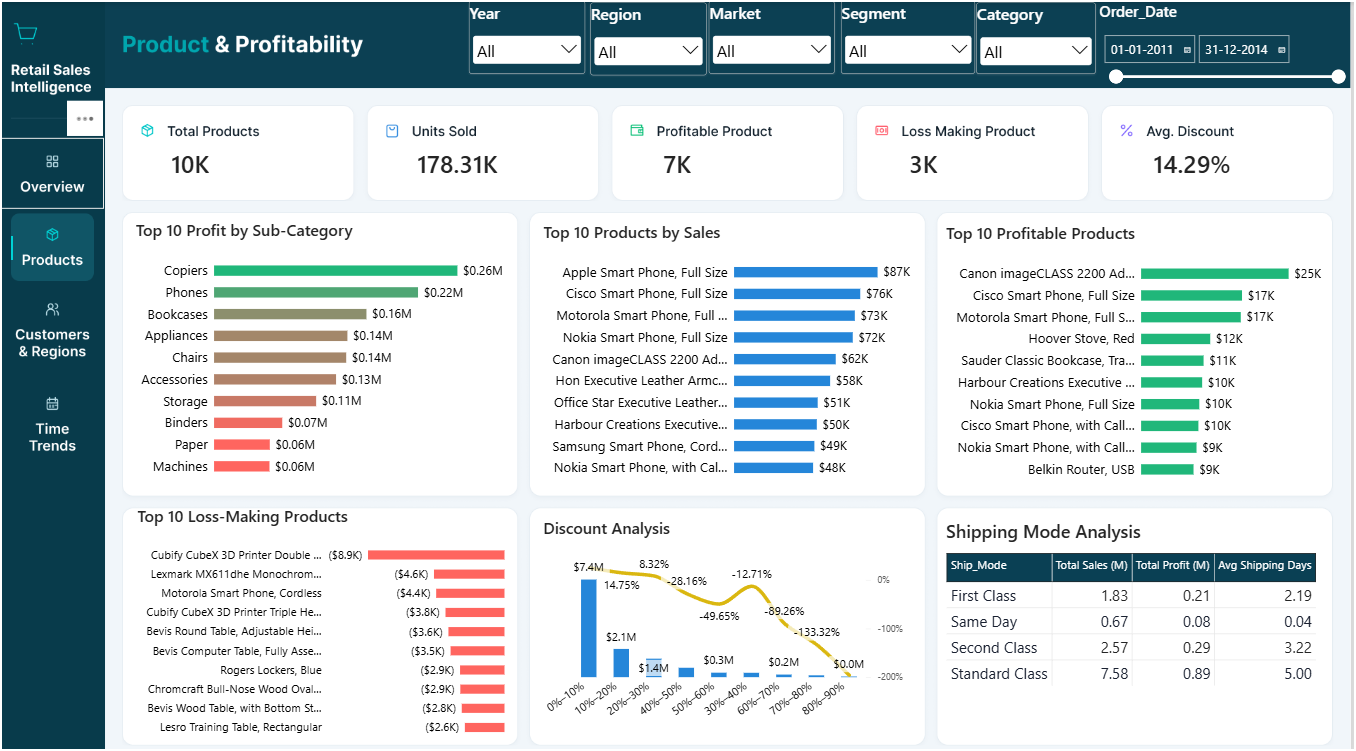

The page's visual inventory and layout, read from the dashboard file:
{"tool":"powerbi","page":{"name":"Page 2","canvas":[1920,1080],"ordinal":1},"visuals":[{"type":"slicer","title":"Region","fields":{"Values":["clean_global_superstore.Region"]},"box":[838.8,2.7,164.9,103.7],"z":0,"group":"g1"},{"type":"shape","box":[0,195.6,148.4,99],"z":0},{"type":"cardVisual","fields":{"Data":["clean_global_superstore.Total Products"]},"box":[226.2,195.6,181.4,70.7],"z":0,"group":"g2"},{"type":"slicer","title":"Year","fields":{"Values":["Calendar.Year"]},"box":[666.8,0.3,164.9,103.7],"z":1000,"group":"g1"},{"type":"cardVisual","fields":{"Data":["clean_global_superstore.Profitable Product"]},"box":[924.9,195.6,181.4,70.7],"z":1000,"group":"g2"},{"type":"shape","box":[0,421.8,148.4,99],"z":1000},{"type":"slicer","title":"Market","fields":{"Values":["clean_global_superstore.Market"]},"box":[1008.5,0.3,179.1,103.7],"z":2000,"group":"g1"},{"type":"cardVisual","fields":{"Data":["clean_global_superstore.Loss Making Product"]},"box":[1274.2,195.6,181.4,70.7],"z":2000,"group":"g2"},{"type":"shape","box":[0,549,148.4,115.4],"z":2000},{"type":"slicer","title":"Order_Date","fields":{"Values":["clean_global_superstore.Order_Date"]},"box":[1562.2,0,355.8,122.5],"z":3000},{"type":"slicer","title":"Segment","fields":{"Values":["clean_global_superstore.Segment"]},"box":[1194.6,0.3,190.9,103.7],"z":3000,"group":"g1"},{"type":"cardVisual","fields":{"Data":["clean_global_superstore.Avg Discount"]},"box":[1623.5,195.6,181.4,70.7],"z":3000,"group":"g2"},{"type":"group","id":"g1","title":"Group 7","box":[666.8,0.3,890.7,106],"z":4000},{"type":"cardVisual","fields":{"Data":["clean_global_superstore.Units Sold"]},"box":[575.5,195.6,181.4,70.7],"z":4000,"group":"g2"},{"type":"group","id":"g2","title":"Group 1","box":[226.2,195.6,1578.7,70.7],"z":5000},{"type":"barChart","title":"Top 10 Profit by Sub-Category","fields":{"Category":["clean_global_superstore.Sub-Category"],"Y":["clean_global_superstore.Total Profit"]},"box":[176.7,294.5,553.7,402.9],"z":6000},{"type":"barChart","title":"Top 10 Products by Sales","fields":{"Category":["clean_global_superstore.Product_Name"],"Y":["clean_global_superstore.Total Sales"]},"box":[756.4,296.9,553.7,402.9],"z":7000},{"type":"barChart","title":"Top 10 Profitable Products","fields":{"Category":["clean_global_superstore.Product_Name"],"Y":["clean_global_superstore.Total Profit"]},"box":[1329,299.3,565.5,402.9],"z":8000},{"type":"barChart","title":"Top 10 Loss-Making Products","fields":{"Category":["clean_global_superstore.Product_Name"],"Y":["clean_global_superstore.Total Profit"]},"box":[179.1,702.2,553.7,365.2],"z":9000},{"type":"lineClusteredColumnComboChart","title":"Discount Analysis","fields":{"Category":["clean_global_superstore.Discount Band"],"Y":["clean_global_superstore.Total Sales"],"Y2":["clean_global_superstore.Profit Margin"]},"box":[756.2,719,552.9,332.2],"z":10000},{"type":"tableEx","title":"Shipping Mode Analysis","fields":{"Values":["clean_global_superstore.Ship_Mode","Calendar.Total Sales (M)","Calendar.Total Profit (M)","clean_global_superstore.Avg Shipping Days"]},"box":[1329,721,565.5,332.2],"z":11000},{"type":"slicer","title":"Category","fields":{"Values":["clean_global_superstore.Category"]},"box":[1387.8,2.7,169.6,101.3],"z":15000,"group":"g1"}]}

Visuals, with their boxes on the page's 1920x1080 design canvas (x1, y1, x2, y2). These are canvas units, not pixel positions in the 1356x751 screenshot, which may show the page scaled, cropped or inside an application window:
"Region" slicer: (x1=839, y1=3, x2=1004, y2=106)
shape: (x1=0, y1=196, x2=148, y2=295)
cardVisual - clean_global_superstore.Total Products: (x1=226, y1=196, x2=408, y2=266)
"Year" slicer: (x1=667, y1=0, x2=832, y2=104)
cardVisual - clean_global_superstore.Profitable Product: (x1=925, y1=196, x2=1106, y2=266)
shape: (x1=0, y1=422, x2=148, y2=521)
"Market" slicer: (x1=1008, y1=0, x2=1188, y2=104)
cardVisual - clean_global_superstore.Loss Making Product: (x1=1274, y1=196, x2=1456, y2=266)
shape: (x1=0, y1=549, x2=148, y2=664)
"Order_Date" slicer: (x1=1562, y1=0, x2=1918, y2=122)
"Segment" slicer: (x1=1195, y1=0, x2=1386, y2=104)
cardVisual - clean_global_superstore.Avg Discount: (x1=1624, y1=196, x2=1805, y2=266)
"Group 7" group: (x1=667, y1=0, x2=1558, y2=106)
cardVisual - clean_global_superstore.Units Sold: (x1=576, y1=196, x2=757, y2=266)
"Group 1" group: (x1=226, y1=196, x2=1805, y2=266)
"Top 10 Profit by Sub-Category" barChart: (x1=177, y1=294, x2=730, y2=697)
"Top 10 Products by Sales" barChart: (x1=756, y1=297, x2=1310, y2=700)
"Top 10 Profitable Products" barChart: (x1=1329, y1=299, x2=1894, y2=702)
"Top 10 Loss-Making Products" barChart: (x1=179, y1=702, x2=733, y2=1067)
"Discount Analysis" lineClusteredColumnComboChart: (x1=756, y1=719, x2=1309, y2=1051)
"Shipping Mode Analysis" tableEx: (x1=1329, y1=721, x2=1894, y2=1053)
"Category" slicer: (x1=1388, y1=3, x2=1557, y2=104)
